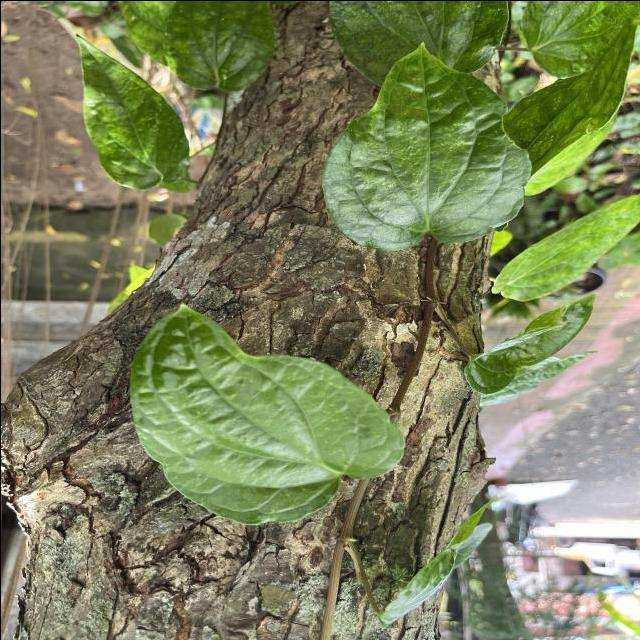Piper betle: (317, 37, 534, 254)
